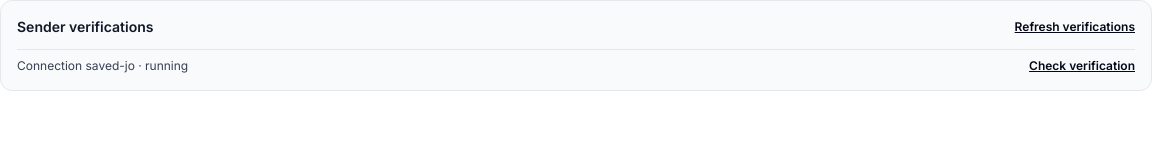
Scenario: server-backed sender recovery › context changes before checking hold the saved selection without reading a foreign job
The width and height of the screenshot is (1152, 160).
Click the button "Check verification" at (1082, 66), box left=1029, top=58, right=1135, bottom=74
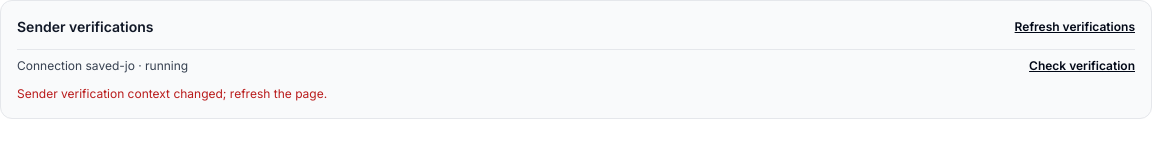
Now the text "context changed" is shown, box left=17, top=86, right=327, bottom=101
